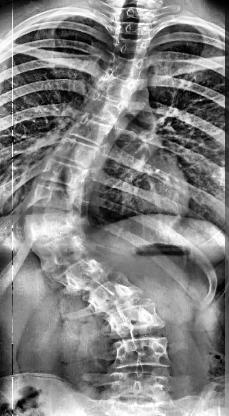Vertebrae: (104, 300, 162, 336), (104, 372, 174, 399), (24, 208, 78, 242), (114, 339, 170, 371), (42, 236, 90, 272), (89, 276, 129, 312), (42, 158, 90, 188), (66, 258, 108, 292), (31, 184, 81, 212), (84, 92, 124, 122), (54, 140, 98, 166), (68, 118, 112, 142), (97, 74, 137, 100), (112, 19, 152, 39), (114, 34, 150, 56), (112, 53, 146, 75)
